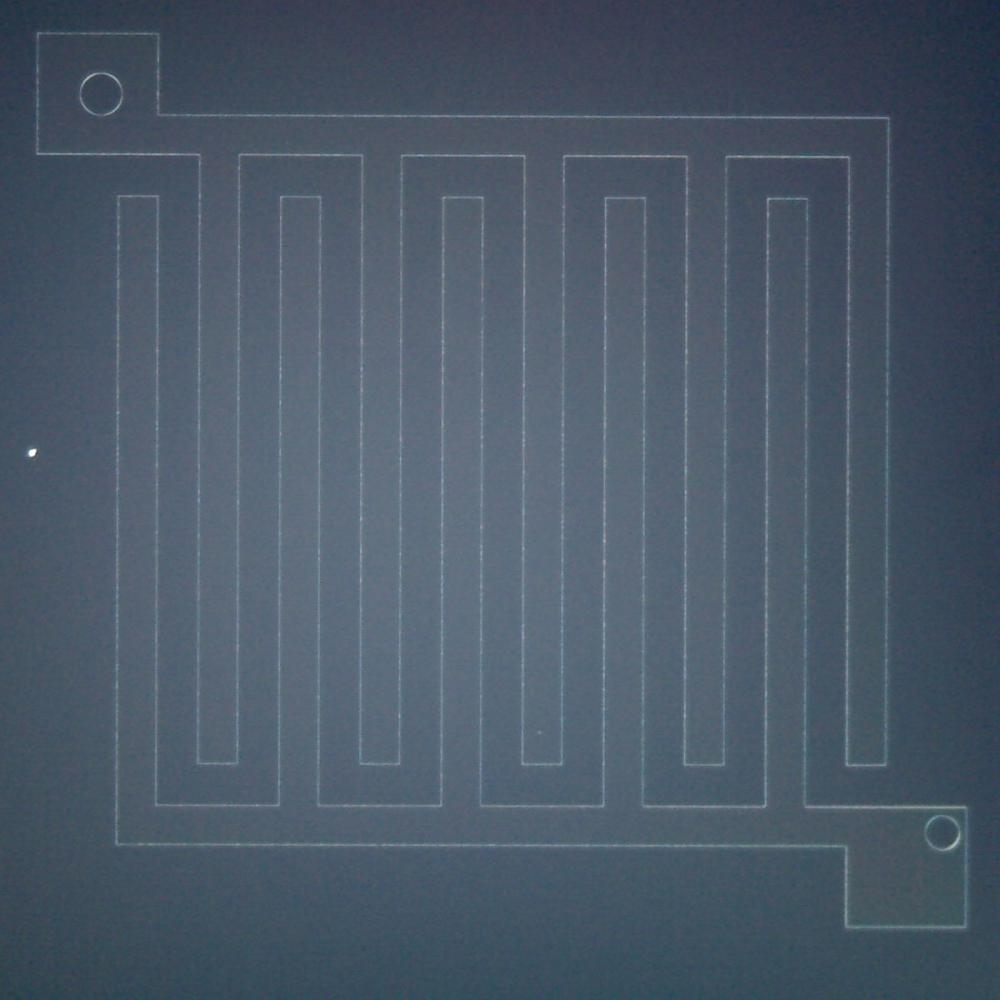dot: (28, 448, 38, 458), (538, 730, 542, 734)
